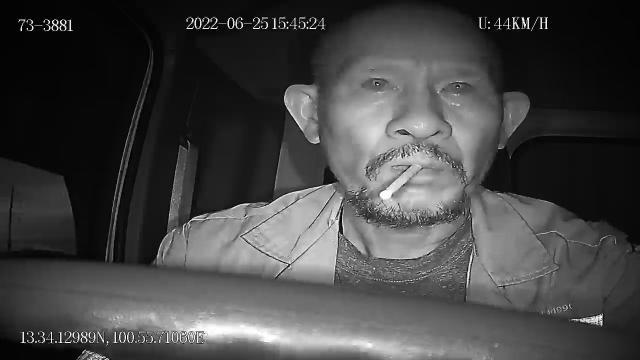SafeDriving: (426, 66, 486, 103), (353, 64, 404, 98)
Smoking: (380, 165, 420, 199)
